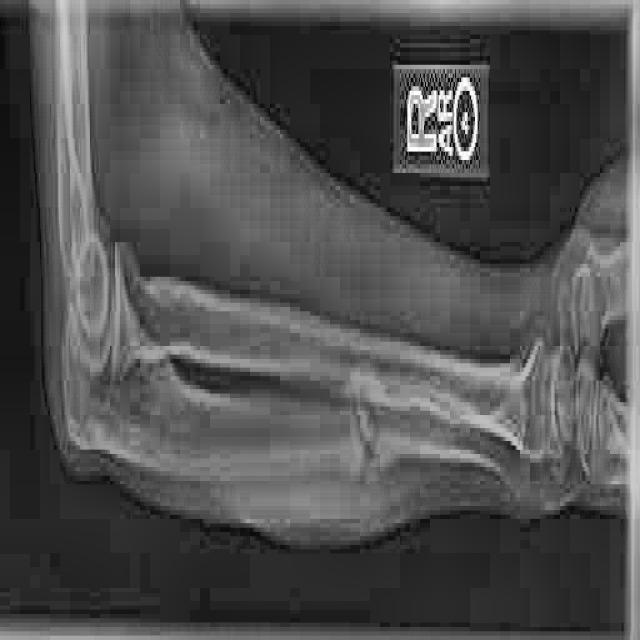forearm fracture: (328, 386, 403, 504)
